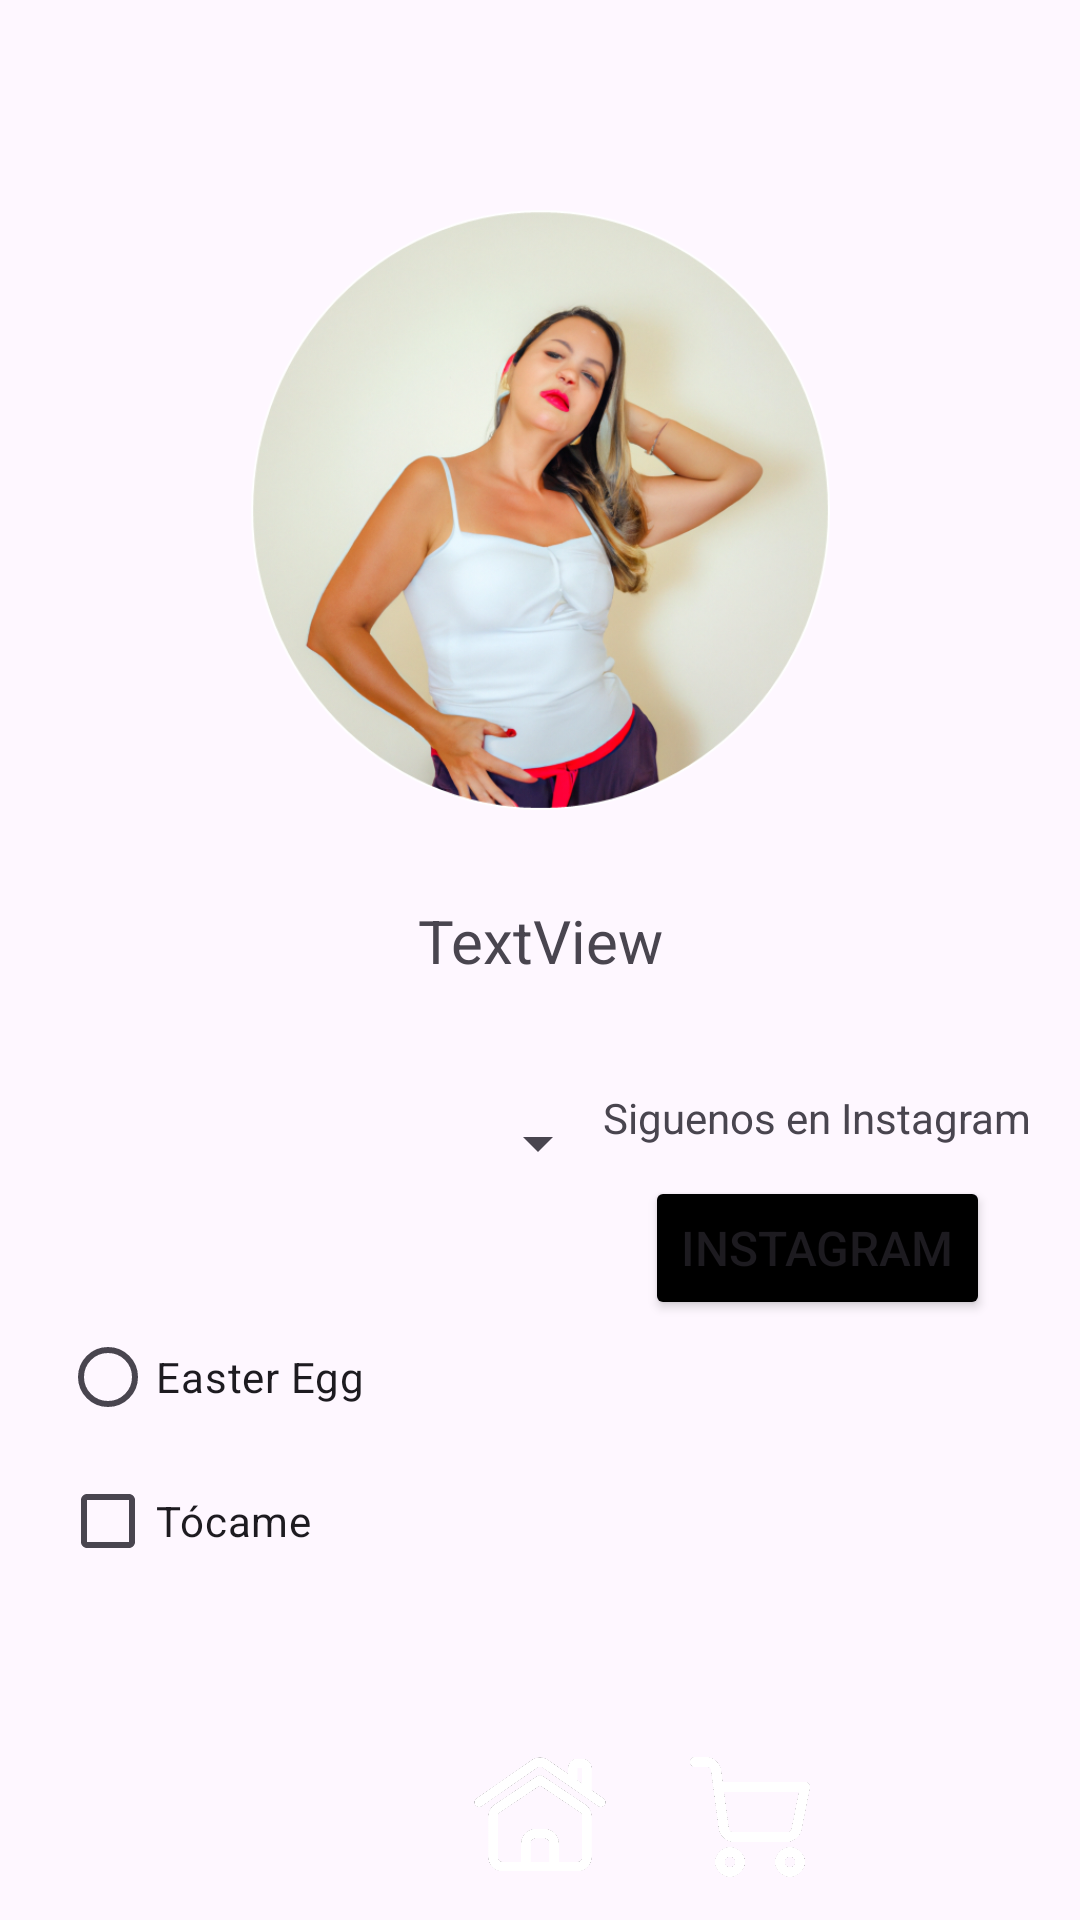

Icons on this 1080w x 1920h Android screen, each with the point to tap as (x=x, y=y):
carrito: (x=750, y=1812)
home: (x=540, y=1811)
